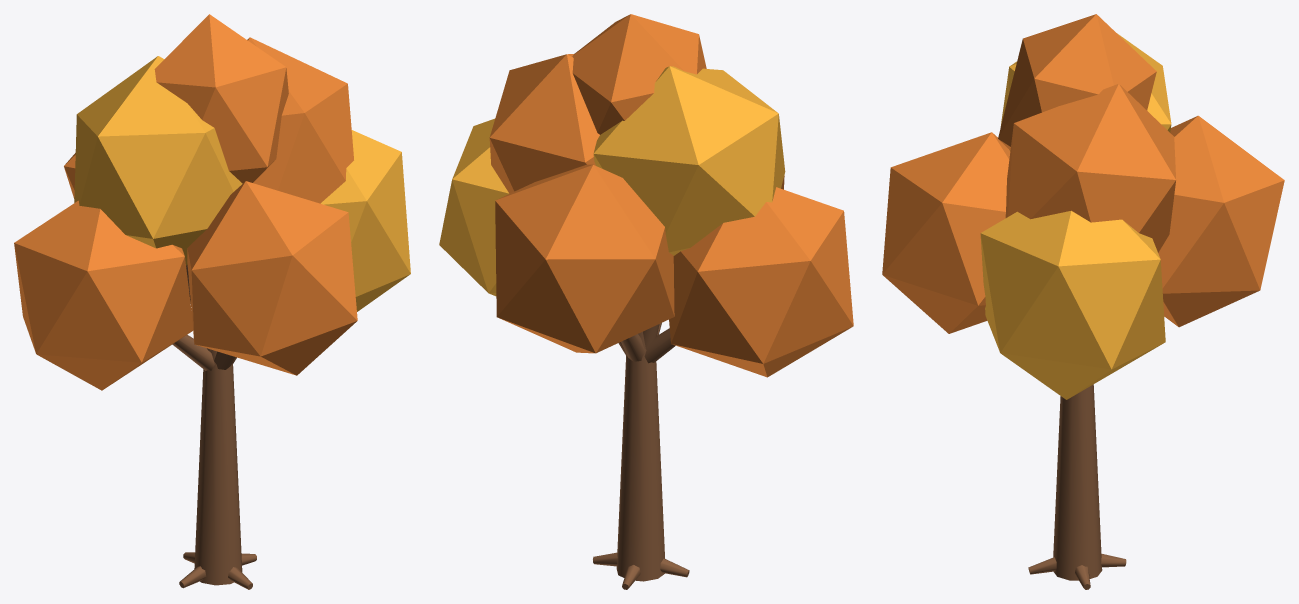
Rendered from tree_maple.glb.
3 views of the same model, side by side, from view 1: azimuth 30°, elevation 25°; view 2: azimuth 150°, elevation 25°; view 3: azimuth 270°, elevation 25° (orthographic).
Visible parts, largest first — view 1: Maple_Crown_02, Maple_Crown_00, Maple_Crown_04, Maple_Crown_06, Maple_Crown_05, Maple_Crown_01, Maple_Trunk, Maple_Branch_00; view 2: Maple_Crown_03, Maple_Crown_00, Maple_Crown_04, Maple_Crown_05, Maple_Crown_06, Maple_Trunk, Maple_Crown_01, Maple_Branch_00; view 3: Maple_Crown_01, Maple_Crown_05, Maple_Crown_02, Maple_Crown_03, Maple_Crown_06, Maple_Trunk, Maple_Crown_04.
Part boxes in pixels (left/top/right/bottom): Maple_Crown_02: left=187, top=181, right=357, bottom=375; Maple_Crown_00: left=14, top=200, right=192, bottom=390; Maple_Crown_04: left=74, top=56, right=242, bottom=265; Maple_Crown_06: left=154, top=14, right=288, bottom=183; Maple_Crown_05: left=247, top=37, right=353, bottom=203; Maple_Crown_01: left=321, top=130, right=410, bottom=311; Maple_Trunk: left=194, top=349, right=242, bottom=585; Maple_Branch_00: left=172, top=334, right=214, bottom=370; Maple_Crown_03: left=495, top=164, right=674, bottom=353; Maple_Crown_00: left=669, top=187, right=853, bottom=377; Maple_Crown_04: left=593, top=66, right=785, bottom=255; Maple_Crown_05: left=489, top=54, right=599, bottom=193; Maple_Crown_06: left=572, top=14, right=706, bottom=134; Maple_Trunk: left=616, top=331, right=664, bottom=581; Maple_Crown_01: left=439, top=118, right=509, bottom=296; Maple_Branch_00: left=644, top=328, right=675, bottom=363; Maple_Crown_01: left=980, top=210, right=1165, bottom=399; Maple_Crown_05: left=1005, top=83, right=1175, bottom=252; Maple_Crown_02: left=882, top=132, right=1010, bottom=333; Maple_Crown_03: left=1158, top=115, right=1284, bottom=327; Maple_Crown_06: left=998, top=14, right=1156, bottom=150; Maple_Trunk: left=1053, top=384, right=1102, bottom=580; Maple_Crown_04: left=1000, top=33, right=1171, bottom=150.
Bounding box in the file's own units: 5.11 × 7.18 × 4.7.
